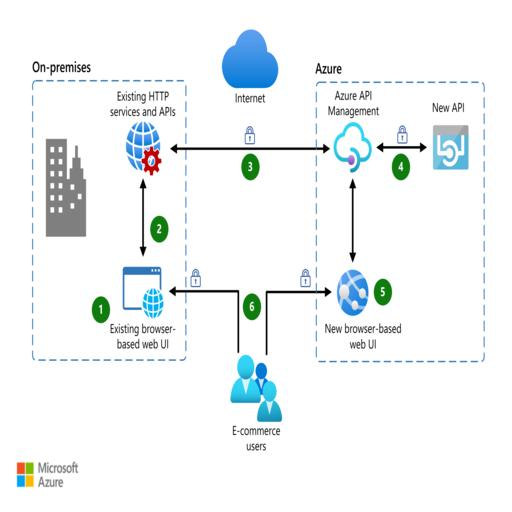actor: (230, 354, 282, 450)
api_gateway: (333, 123, 374, 174), (126, 120, 162, 176), (432, 123, 468, 174)
compute: (123, 266, 164, 318), (336, 266, 372, 318)
data_flow: (176, 144, 324, 154), (138, 187, 148, 248), (348, 187, 358, 248), (264, 287, 325, 297), (174, 287, 230, 297), (226, 297, 236, 348), (261, 297, 271, 348), (382, 144, 422, 154)
network_security: (242, 125, 258, 145), (394, 125, 410, 145), (187, 268, 202, 288), (297, 268, 312, 288)
trust_boundary: (315, 80, 485, 362), (32, 80, 186, 362)
